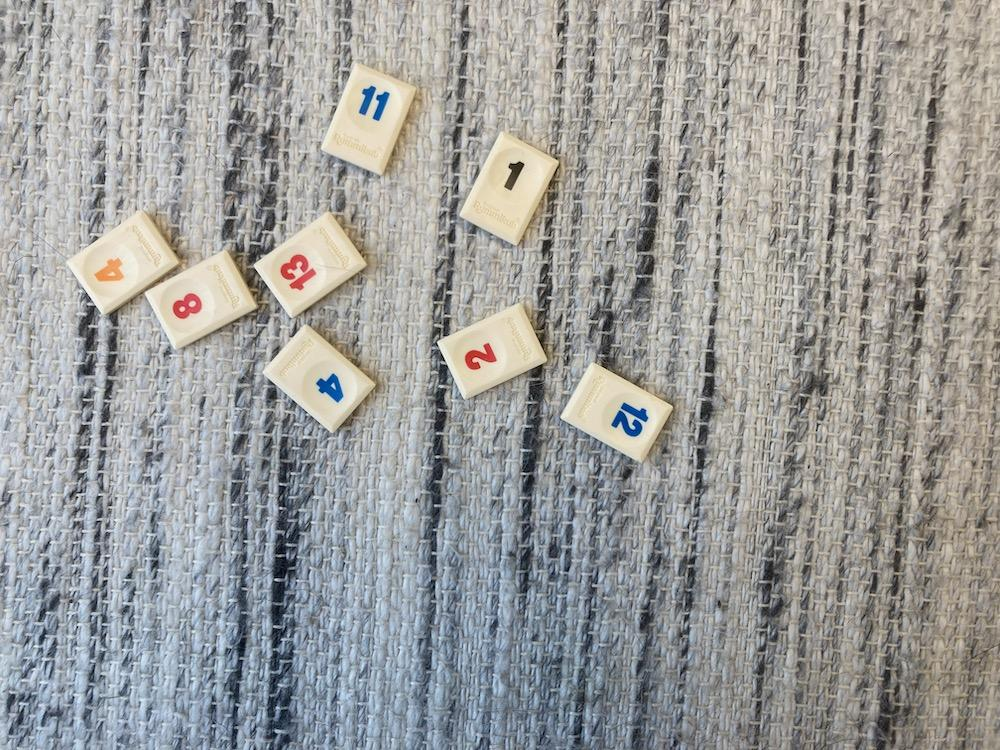black_1: (461, 133, 559, 244)
blue_11: (322, 64, 416, 174)
blue_12: (561, 363, 672, 461)
blue_4: (264, 326, 375, 432)
orange_4: (68, 211, 180, 314)
red_13: (256, 213, 367, 316)
red_2: (438, 303, 547, 398)
red_8: (145, 250, 258, 348)
